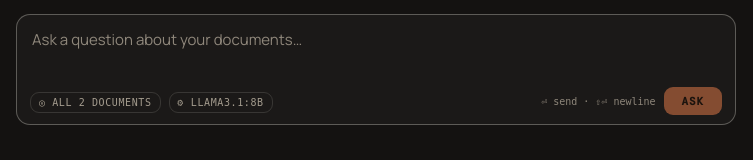
Composer › scope popover › opens on click and lists every indexed filename
This screenshot has width=753, height=160.
Click the button with test id "composer-scope-button" at (95, 102), box [30, 92, 161, 112]
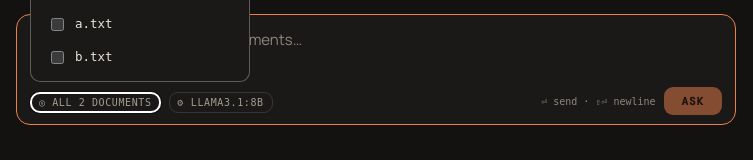
Now the number of labels with test id "scope-item" is 2, box [51, 16, 113, 31]; [51, 49, 113, 64]
